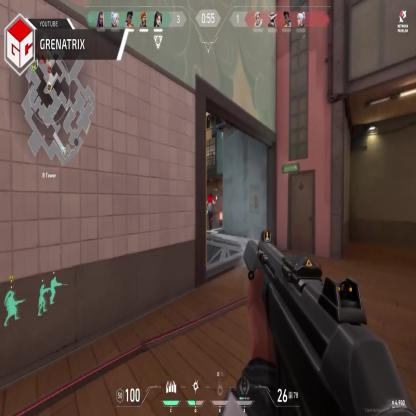enemy: (205, 194, 214, 232)
enemy_head: (209, 194, 212, 199)
